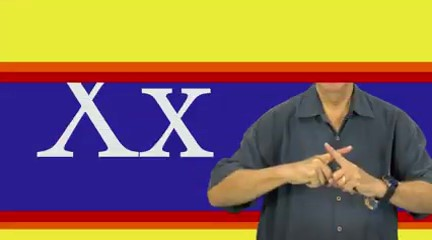X: (285, 139, 380, 202)
